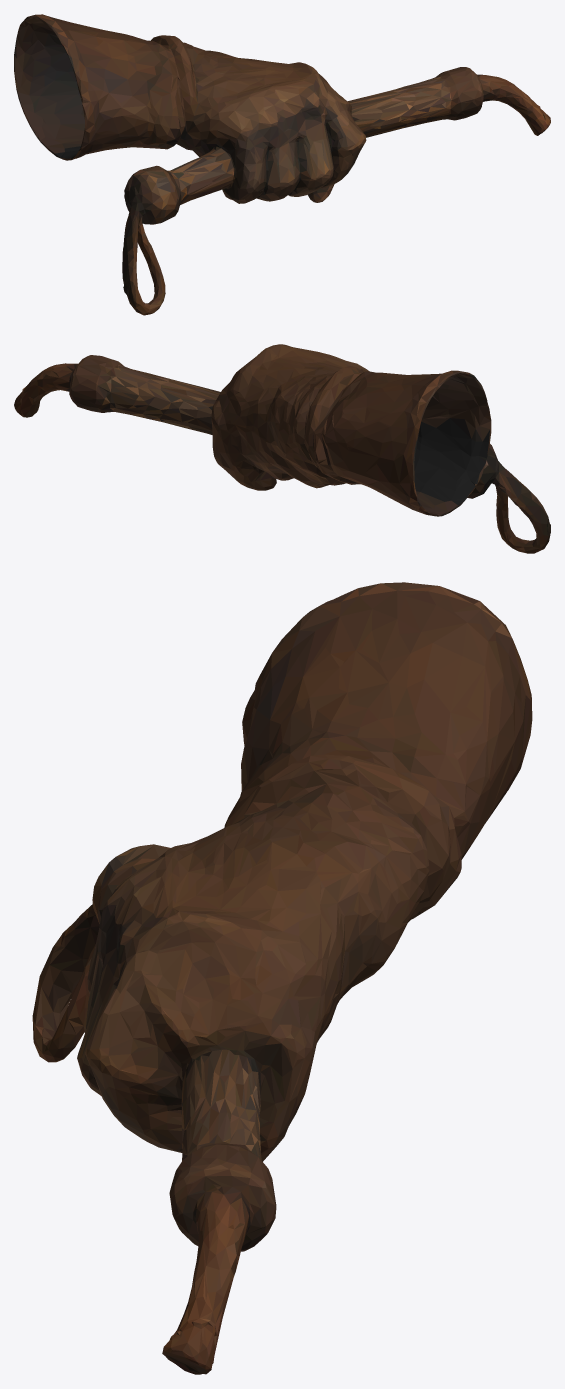
File: whip-glove.glb
3 views of the same model, one above another, from view 1: azimuth 30°, elevation 25°; view 2: azimuth 150°, elevation 25°; view 3: azimuth 270°, elevation 25° (orthographic). The views are drawn at different scales.
Visible parts, largest first — view 1: whip-glove; view 2: whip-glove; view 3: whip-glove.
Part boxes in pixels (bbox=[...]): whip-glove: bbox=[14, 14, 550, 315]; whip-glove: bbox=[14, 344, 550, 553]; whip-glove: bbox=[32, 582, 532, 1374].
Bounding box in the file's own units: 0.4599 × 0.2213 × 0.2169.
